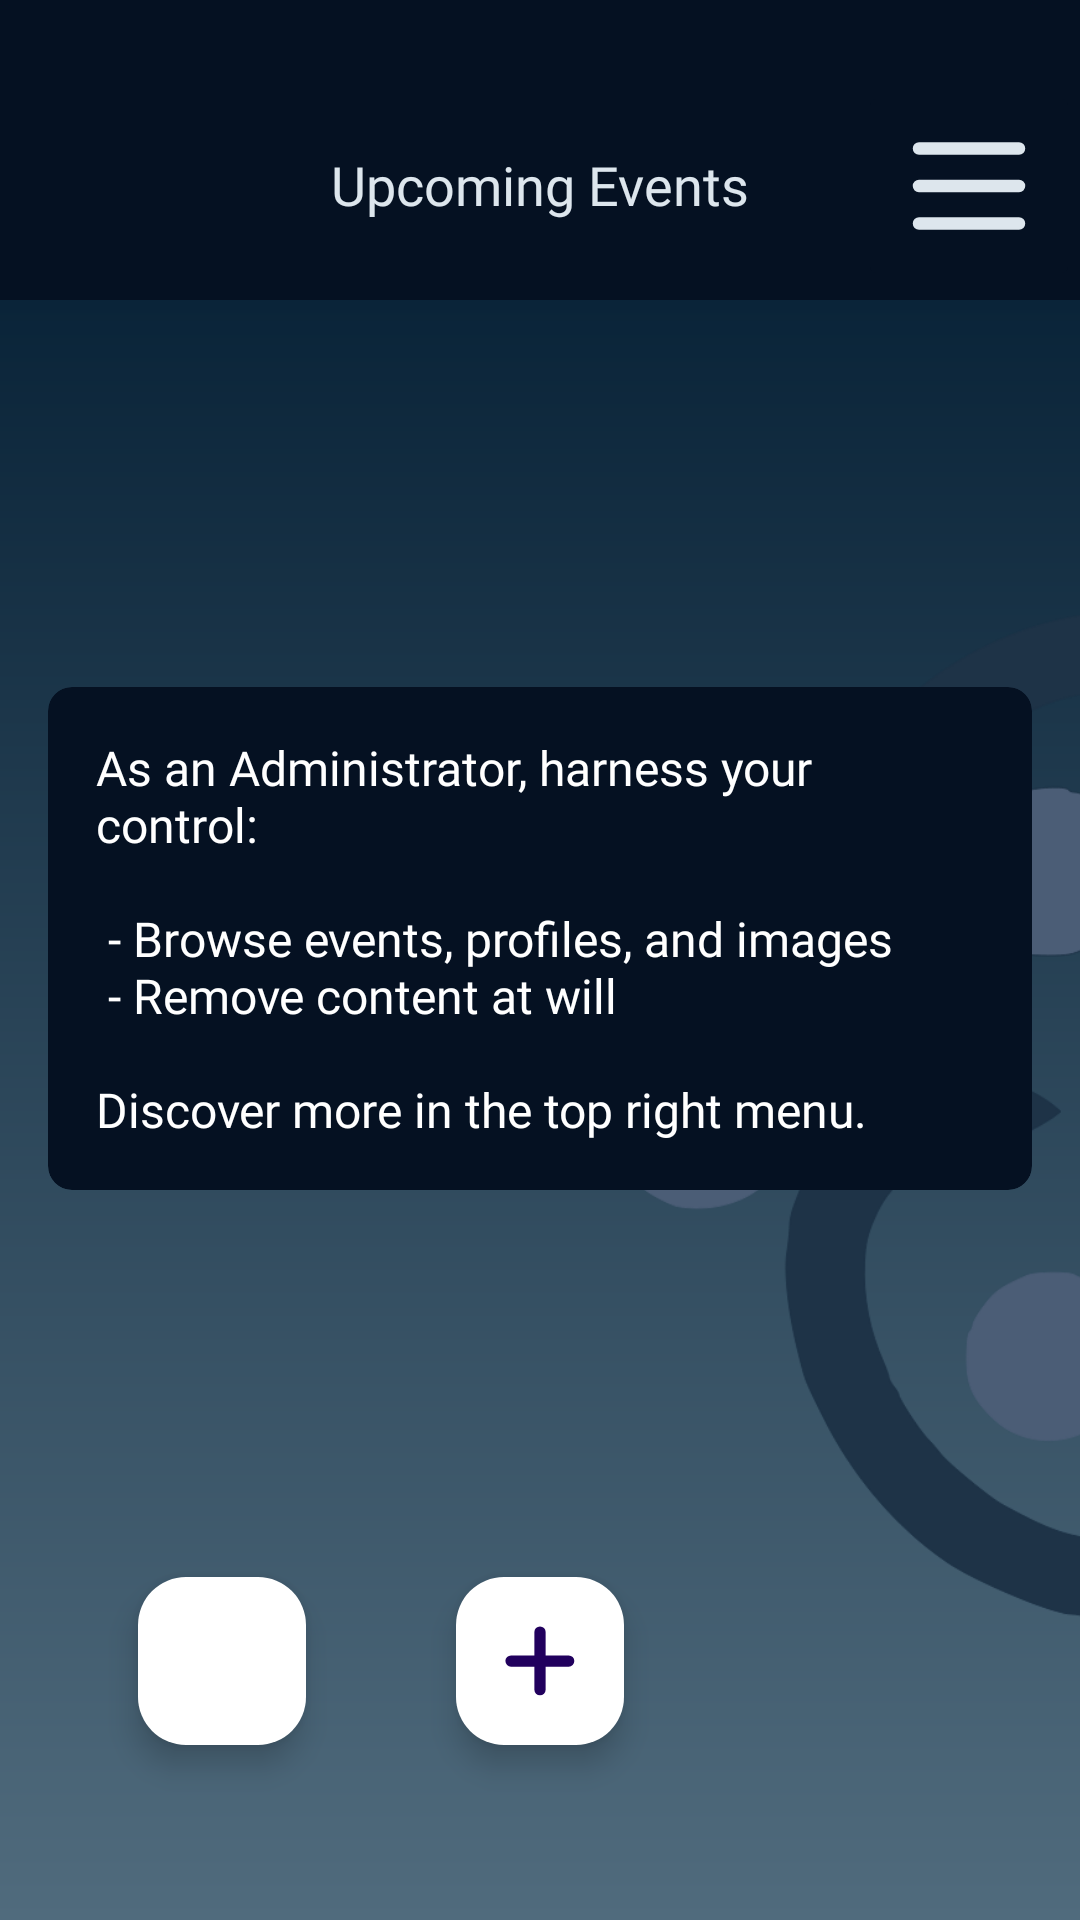

Locate icon controls on the screen. Image size 1080*1920, boxes as (x1, y1, x2, y2).
add: (456, 1577, 624, 1745)
menu: (912, 142, 1026, 230)
